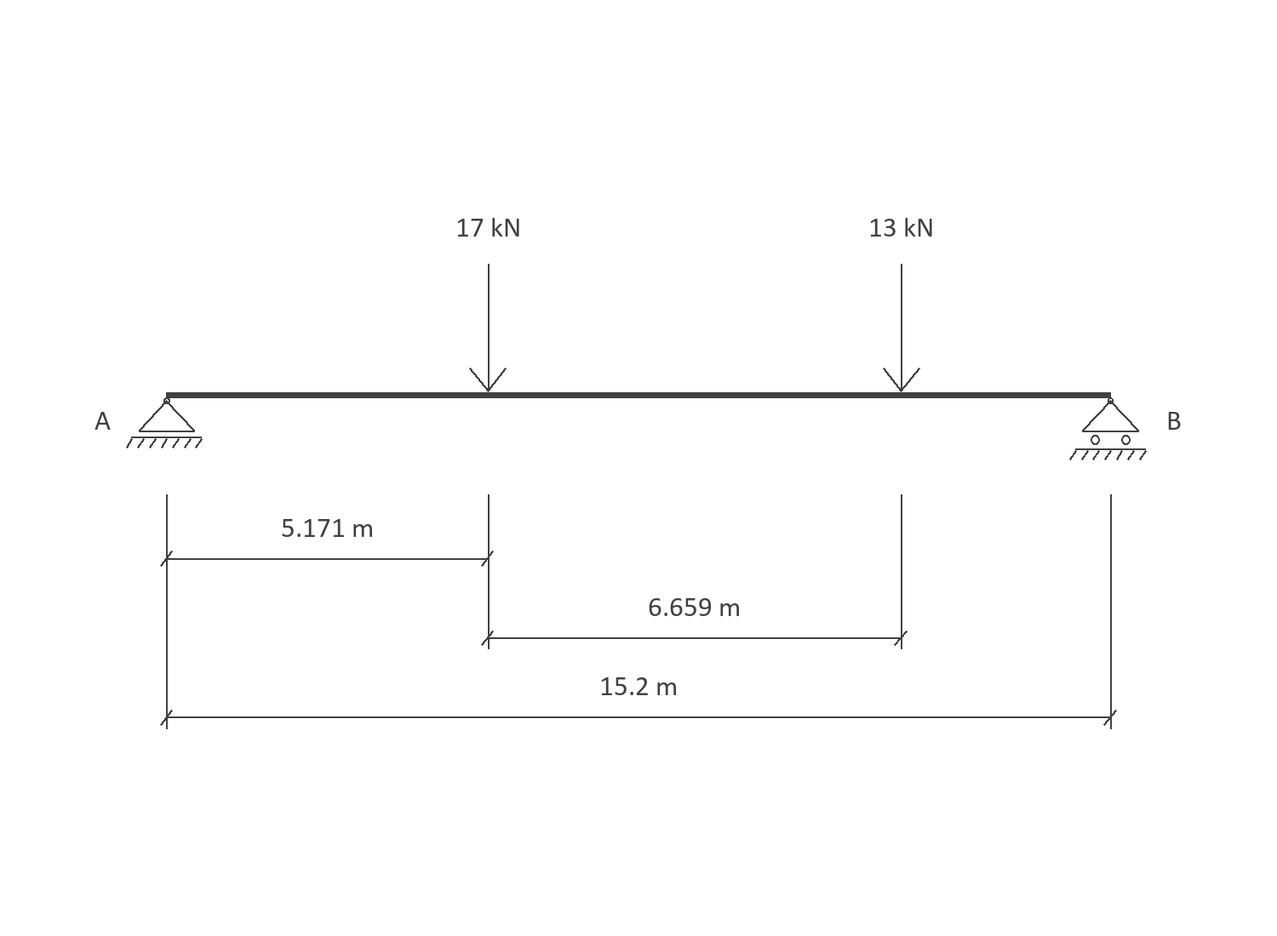pin_support: (126, 397, 203, 448)
point_load: (469, 264, 507, 392), (883, 264, 920, 392)
roller_support: (1069, 397, 1147, 460)
